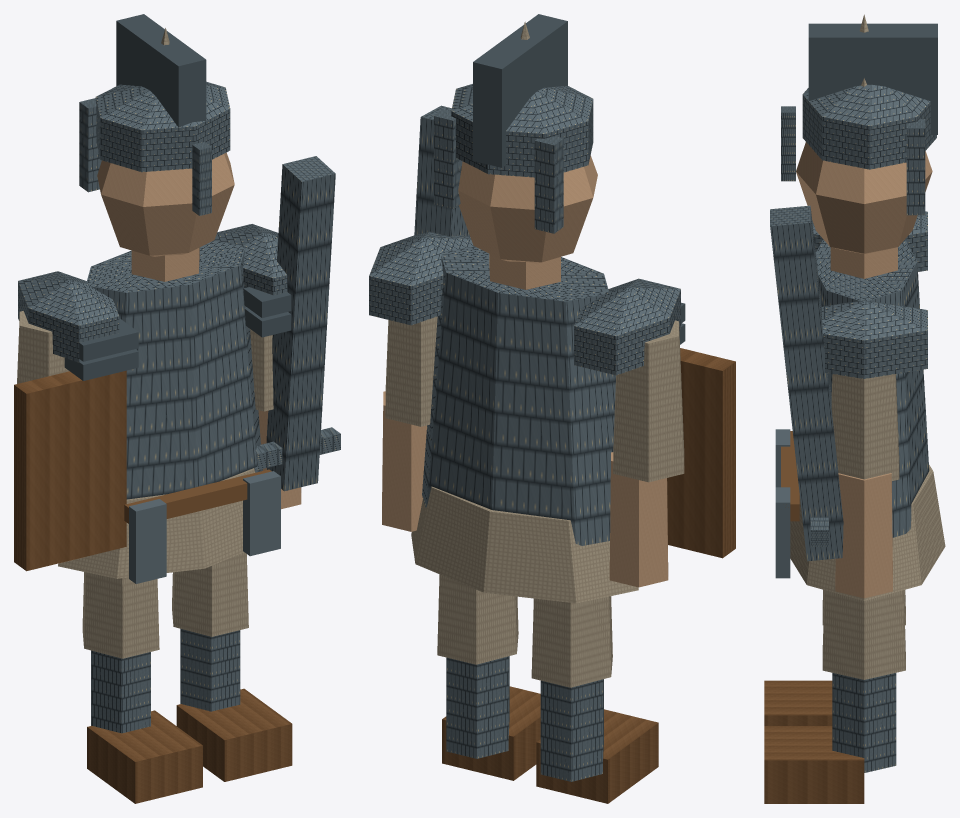
Rendered from unit-SWORD-lod1.glb.
3 views of the same model, side by side, from view 1: azimuth 30°, elevation 25°; view 2: azimuth 150°, elevation 25°; view 3: azimuth 270°, elevation 25° (orthographic). The views are drawn at different scales.
Size of the model in its own units: 0.207 by 0.448 by 0.098.
Materials: 1 (1 with a texture image).
